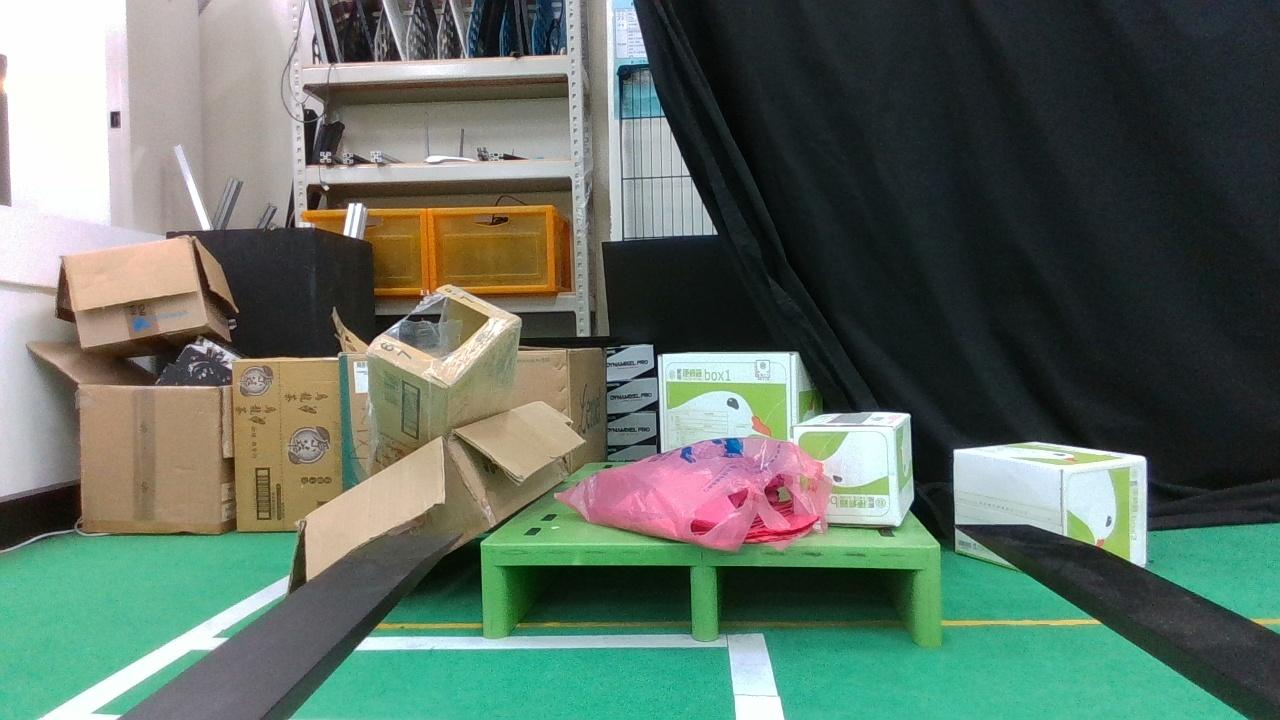Pallet: (482, 542, 942, 646)
